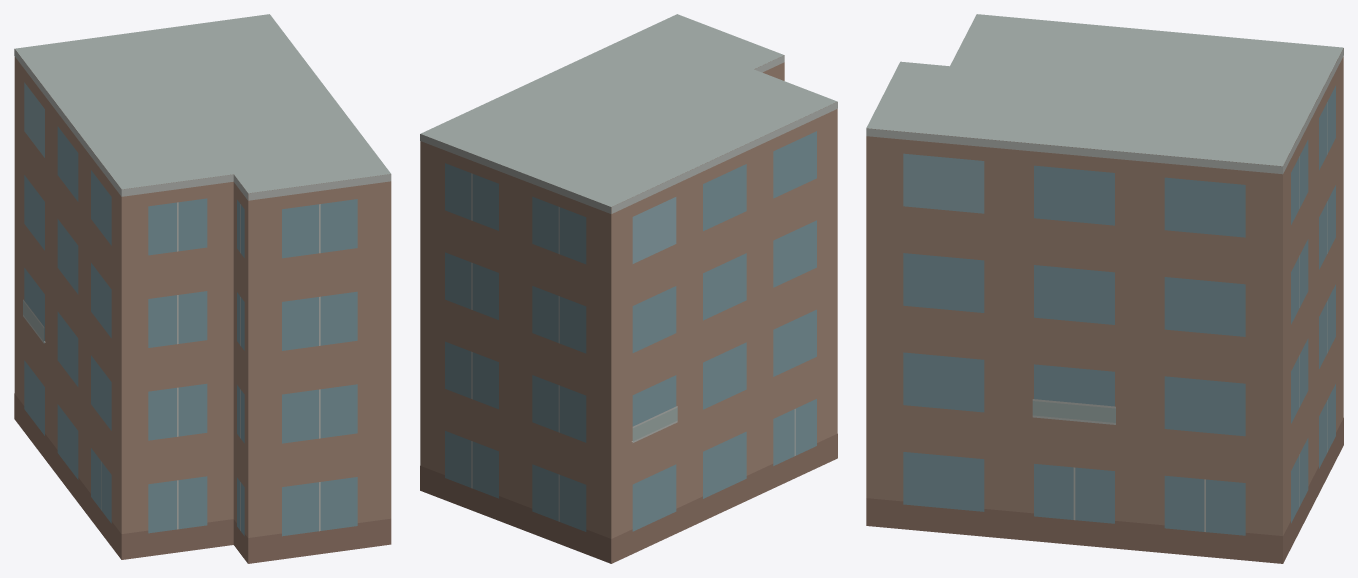
Rendered from residential-76302622-2376-49df-8915-1e0f4dea5ce0.glb.
The picture shows the model from 3 angles, left to right: view 1: azimuth 30°, elevation 25°; view 2: azimuth 150°, elevation 25°; view 3: azimuth 270°, elevation 25°; orthographic projection. The views are drawn at different scales.
Parts seen in each view (by area): view 1: residential-76302622-2376-49df-8915-1e0f4dea5ce0.tmp; view 2: residential-76302622-2376-49df-8915-1e0f4dea5ce0.tmp; view 3: residential-76302622-2376-49df-8915-1e0f4dea5ce0.tmp.
Part boxes in pixels (x1,y1,x2,y2): residential-76302622-2376-49df-8915-1e0f4dea5ce0.tmp: (14,14,391,563); residential-76302622-2376-49df-8915-1e0f4dea5ce0.tmp: (420,14,837,563); residential-76302622-2376-49df-8915-1e0f4dea5ce0.tmp: (866,14,1343,563).
Size of the model in its own units: 10.03 by 12.2 by 13.29.
